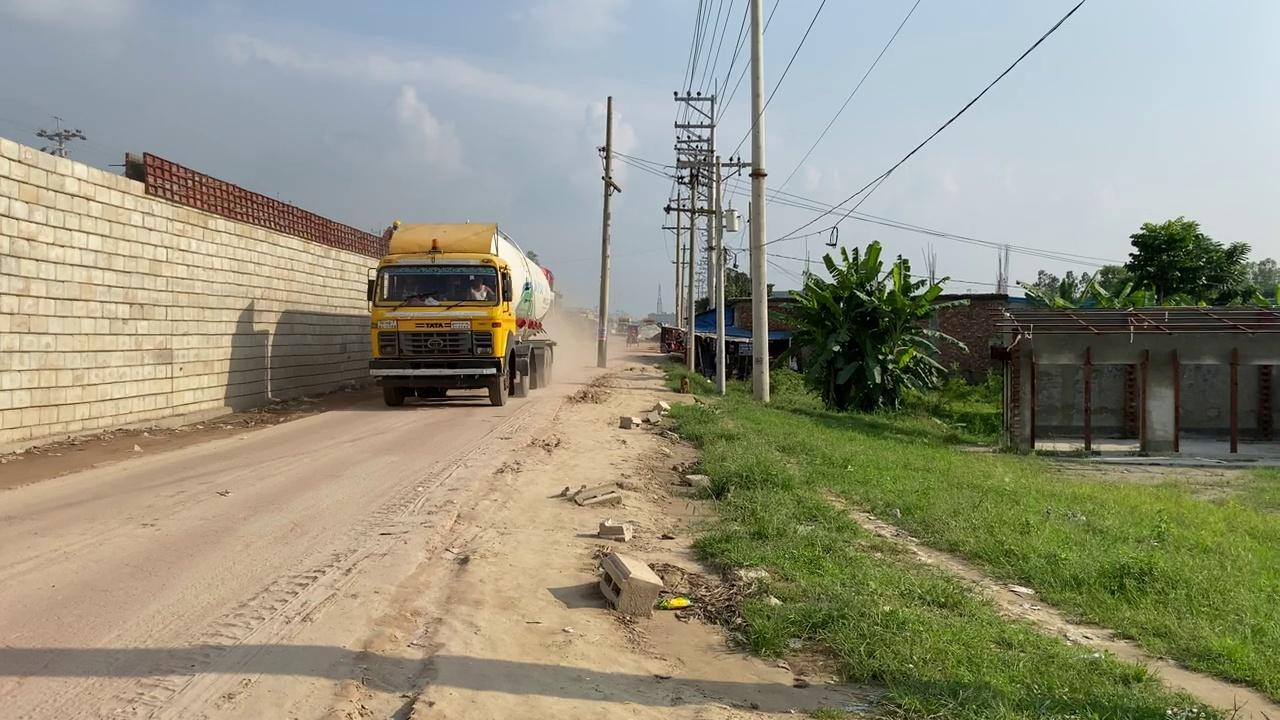Muddy road: (1, 328, 885, 718)
Obstacle: (595, 548, 664, 617)
Pole: (747, 1, 770, 403), (595, 95, 614, 367)
Traffic-sign: (775, 238, 970, 413), (1115, 214, 1256, 306)
Tree: (366, 219, 555, 407), (625, 324, 639, 346)
Upstairs: (0, 135, 389, 453)
